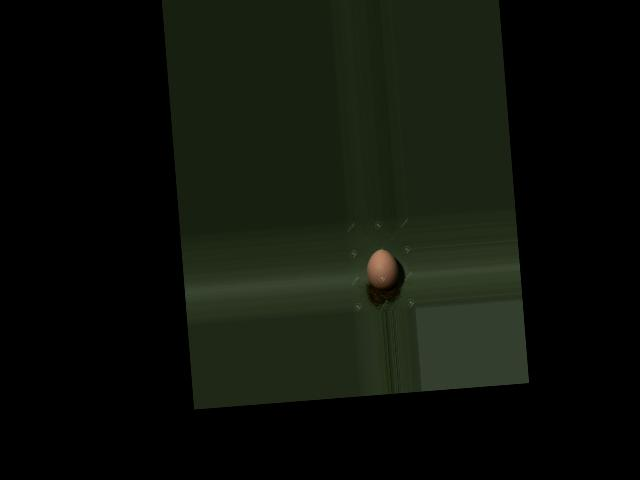egg: (365, 247, 400, 290)
